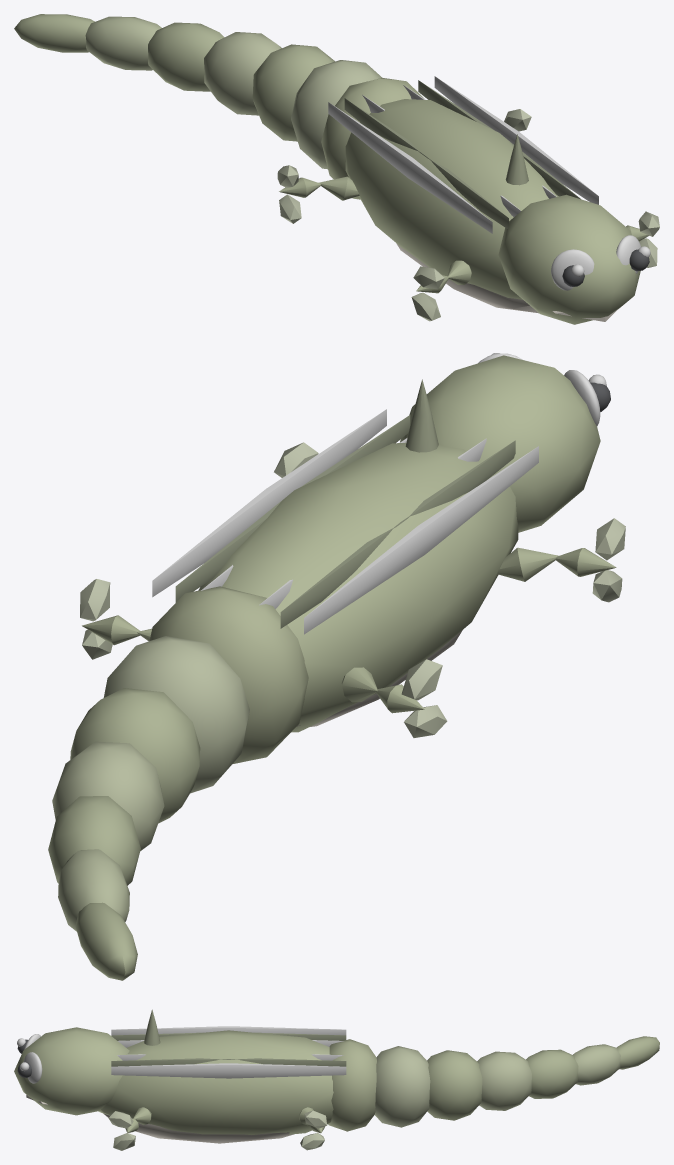
File: eutropis-multifasciata.glb
The picture shows the model from 3 angles, top to bottom: view 1: azimuth 30°, elevation 25°; view 2: azimuth 150°, elevation 25°; view 3: azimuth 270°, elevation 25°; orthographic projection. The views are drawn at different scales.
Visible parts, largest first — view 1: body, head, tail2, tail1, tail3, tail4, tail5, tail0, tail6, belly, face-eye-r, crest0 (+7 smaller); view 2: body, head, tail0, tail1, tail2, tail3, tail4, tail5, tail6, crest0, leg0-r0, toe11-r (+6 smaller); view 3: body, head, tail1, tail0, tail2, tail3, tail4, tail5, belly, tail6, face-eye-l, crest0 (+5 smaller).
Part boxes in pixels (box(x1,y1,x2,y2)): body: box(328, 76, 598, 299); head: box(498, 194, 640, 324); tail2: box(252, 44, 334, 141); tail1: box(291, 60, 382, 169); tail3: box(204, 32, 281, 115); tail4: box(148, 22, 224, 91); tail5: box(85, 16, 161, 70); tail0: box(321, 78, 424, 199); tail6: box(14, 14, 94, 52); belly: box(396, 243, 538, 313); face-eye-r: box(551, 249, 594, 290); crest0: box(505, 134, 528, 185); body: box(152, 409, 538, 732); head: box(400, 355, 600, 532); tail0: box(149, 586, 308, 764); tail1: box(103, 636, 249, 793); tail2: box(70, 688, 200, 823); tail3: box(52, 741, 164, 850); tail4: box(48, 796, 140, 885); tail5: box(58, 849, 129, 931); tail6: box(75, 902, 137, 980); crest0: box(405, 379, 438, 452); leg0-r0: box(497, 547, 558, 581); toe11-r: box(401, 659, 442, 700); body: box(98, 1026, 346, 1134); head: box(14, 1027, 129, 1115); tail1: box(374, 1046, 430, 1127); tail0: box(328, 1039, 376, 1131); tail2: box(427, 1050, 482, 1120); tail3: box(477, 1051, 531, 1110); tail4: box(526, 1049, 578, 1098); tail5: box(573, 1044, 620, 1085); belly: box(103, 1113, 293, 1143); tail6: box(617, 1036, 659, 1069); face-eye-l: box(23, 1052, 42, 1083); crest0: box(144, 1009, 160, 1045).
Bounding box in the file's own units: 0.481 × 0.3074 × 1.39.
